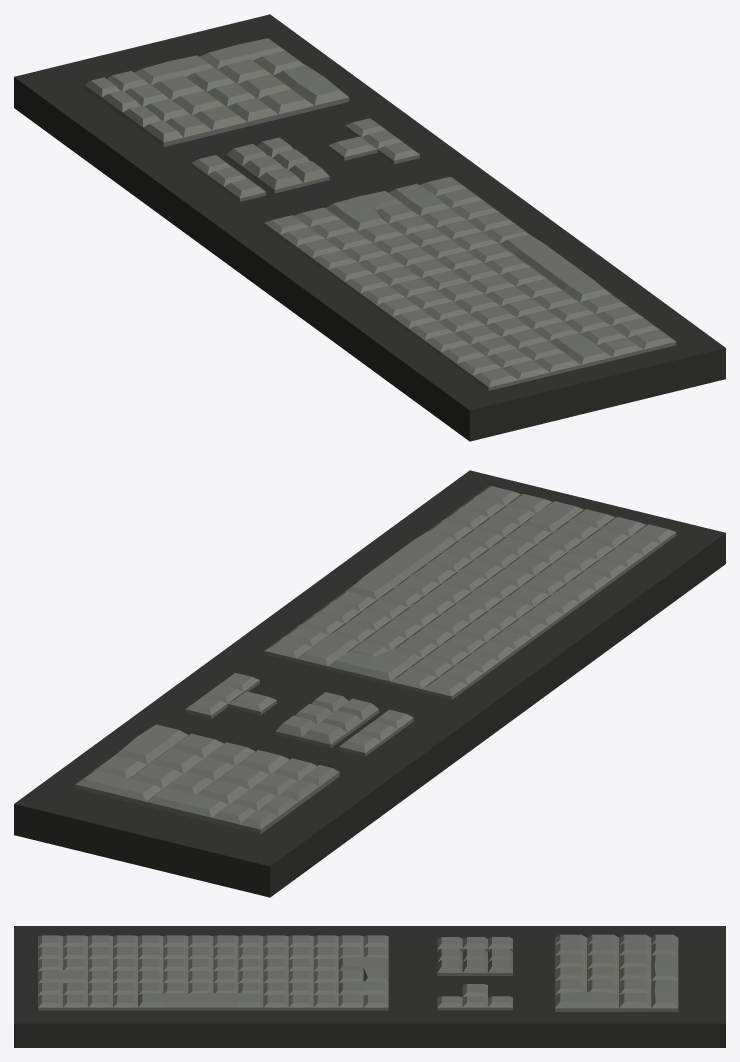
Rendered from Tastatur.fbx.
3 renders of one model, top to bottom at view 1: azimuth 30°, elevation 25°; view 2: azimuth 150°, elevation 25°; view 3: azimuth 270°, elevation 25°, orthographic. The views are drawn at different scales.
Visible parts, largest first — view 1: Keyboard, Tasten; view 2: Keyboard, Tasten; view 3: Keyboard, Tasten.
Part boxes in pixels (x1,y1,x2,y2): Keyboard: (14,14,725,441); Tasten: (84,38,676,390); Keyboard: (14,470,725,897); Tasten: (75,486,676,834); Keyboard: (14,926,725,1047); Tasten: (38,934,678,1011).
Size of the model in its own units: 200 by 31.49 by 616.
